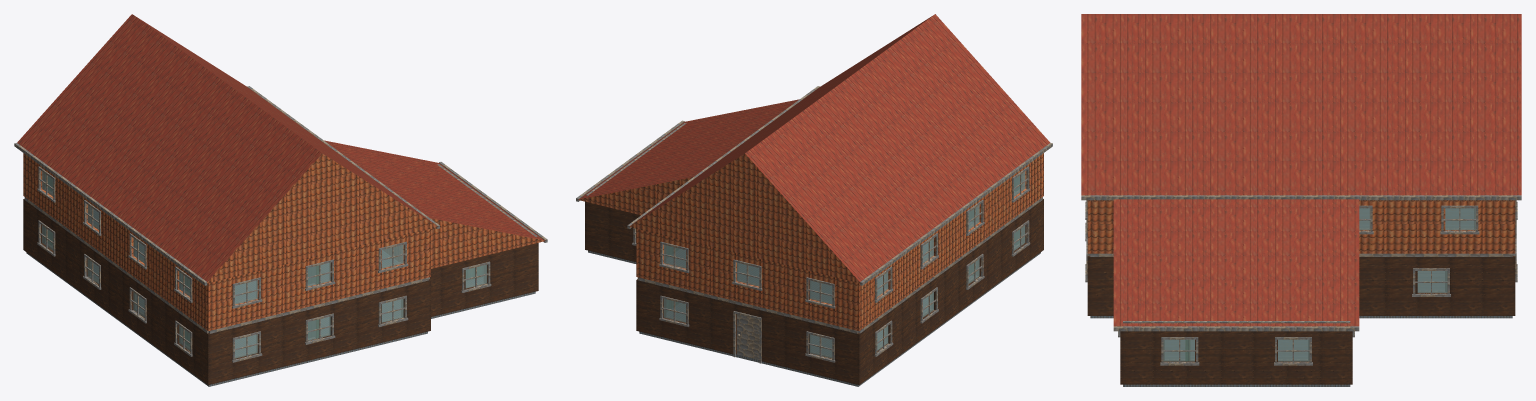
File: millrace-workhouse.gltf
The picture shows the model from 3 angles, left to right: view 1: azimuth 30°, elevation 25°; view 2: azimuth 150°, elevation 25°; view 3: azimuth 270°, elevation 25°; orthographic projection. The views are drawn at different scales.
Visible parts, largest first — view 1: roof-L1-brown-shingle, exterior-L0-stone, exterior-L1-wood, roof-L1-wood, roof-L0-brown-shingle, roof-L0-wood, trim-L0-dark-wood, trim-L1-dark-wood, glazing-L0-glass, glazing-L1-glass, floor-L0-concrete, roof-L1-dark-wood (+2 smaller); view 2: roof-L1-brown-shingle, exterior-L0-stone, exterior-L1-wood, roof-L1-wood, roof-L0-brown-shingle, trim-L0-dark-wood, trim-L1-dark-wood, glazing-L1-glass, roof-L1-dark-wood, exterior-L0-dark-wood, roof-L0-wood, glazing-L0-glass (+3 smaller); view 3: roof-L1-brown-shingle, roof-L0-brown-shingle, exterior-L0-stone, exterior-L1-wood, floor-L0-concrete, roof-L1-dark-wood, glazing-L0-glass, trim-L0-dark-wood, roof-L0-dark-wood, exterior-L0-dark-wood, glazing-L1-glass, trim-L1-dark-wood (+1 smaller).
Boxes of the visible parts, x1,y1,x2,y2 form: roof-L1-brown-shingle: (17, 14, 435, 281); exterior-L0-stone: (23, 199, 538, 385); exterior-L1-wood: (23, 153, 430, 331); roof-L1-wood: (207, 153, 438, 283); roof-L0-brown-shingle: (324, 140, 544, 240); roof-L0-wood: (384, 218, 545, 268); trim-L0-dark-wood: (37, 220, 491, 362); trim-L1-dark-wood: (37, 166, 408, 308); glazing-L0-glass: (42, 225, 486, 358); glazing-L1-glass: (42, 171, 403, 304); floor-L0-concrete: (26, 245, 535, 386); roof-L1-dark-wood: (14, 86, 439, 285); roof-L1-brown-shingle: (632, 14, 1050, 281); exterior-L0-stone: (585, 199, 1043, 384); exterior-L1-wood: (636, 153, 1043, 330); roof-L1-wood: (629, 153, 860, 283); roof-L0-brown-shingle: (579, 99, 799, 199); trim-L0-dark-wood: (632, 220, 1030, 363); trim-L1-dark-wood: (659, 166, 1030, 308); glazing-L1-glass: (663, 171, 1025, 304); roof-L1-dark-wood: (627, 86, 1052, 285); exterior-L0-dark-wood: (586, 123, 1042, 333); roof-L0-wood: (578, 177, 692, 215); glazing-L0-glass: (663, 225, 1025, 358); roof-L1-brown-shingle: (1081, 14, 1521, 195); roof-L0-brown-shingle: (1113, 199, 1359, 326); exterior-L0-stone: (1087, 256, 1515, 384); exterior-L1-wood: (1087, 200, 1515, 253); floor-L0-concrete: (1090, 271, 1512, 386); roof-L1-dark-wood: (1081, 195, 1521, 200); glazing-L0-glass: (1163, 271, 1447, 361); trim-L0-dark-wood: (1085, 220, 1517, 365); roof-L0-dark-wood: (1113, 326, 1359, 331); exterior-L0-dark-wood: (1087, 253, 1515, 323); glazing-L1-glass: (1359, 208, 1475, 230); trim-L1-dark-wood: (1085, 200, 1517, 234).
Size of the model in its own units: 14.66 by 8.24 by 13.56.
Materials: 10 (9 with a texture image).
